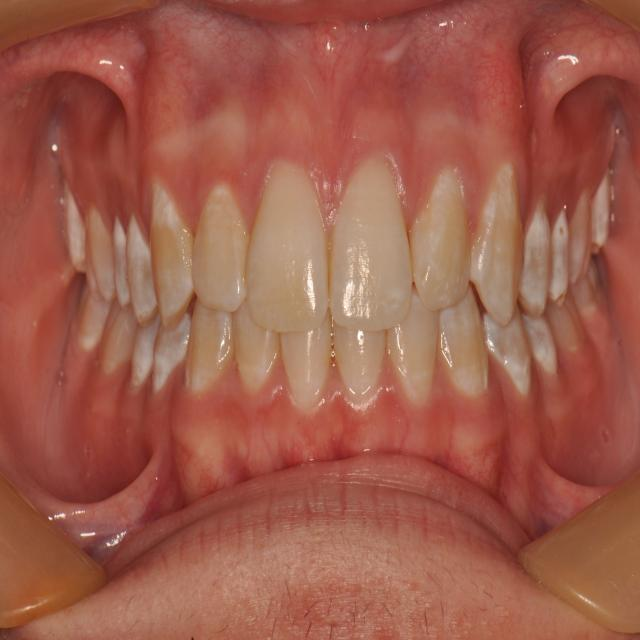tooth: (331, 163, 422, 337), (250, 178, 339, 325), (401, 135, 474, 309), (190, 209, 257, 314), (480, 169, 523, 321), (436, 309, 498, 403), (149, 204, 198, 313), (334, 319, 387, 414), (392, 308, 438, 409), (288, 323, 336, 407), (484, 315, 539, 388), (191, 304, 234, 394), (236, 309, 279, 394), (127, 218, 157, 316), (522, 209, 550, 314), (83, 208, 117, 290), (551, 210, 571, 303)
